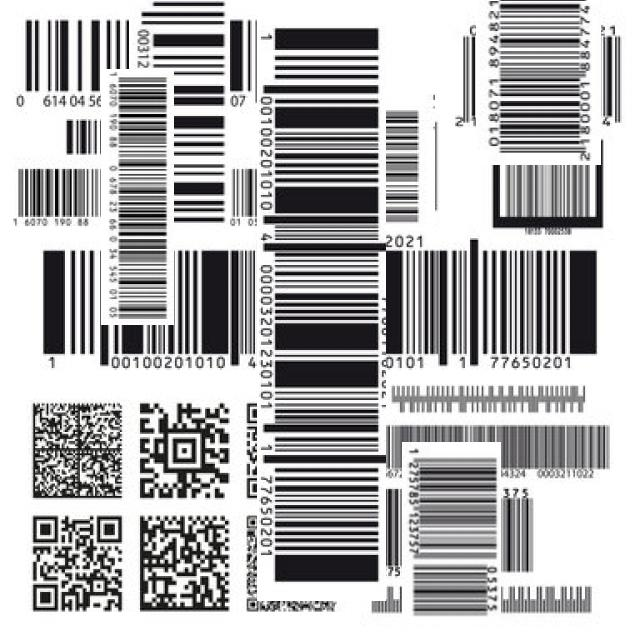Barkod: (142, 128, 501, 486), (66, 0, 292, 177), (56, 116, 220, 280), (462, 0, 615, 151), (381, 463, 522, 604), (313, 99, 441, 226)
